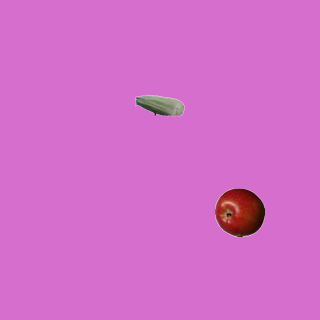Apple Braeburn: (214, 187, 264, 237)
Corn Husk: (134, 80, 184, 130)
